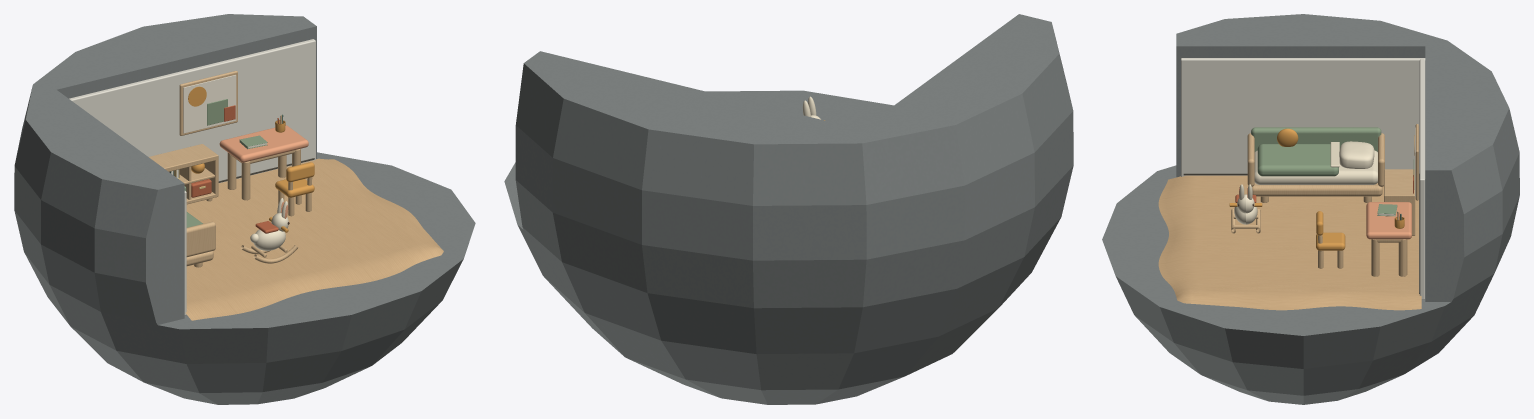
Rendered from roomlet-growing-modified.glb.
3 renders of one model, left to right at view 1: azimuth 30°, elevation 25°; view 2: azimuth 150°, elevation 25°; view 3: azimuth 270°, elevation 25°, orthographic. The views are drawn at different scales.
Visible parts, largest first — view 1: Shell_Stone_LowPoly, Floor_Rectangular_Oak, Wall_Back, Art_Quiet_Field, Desk_Top, Cubby_Top, Daybed_Rounded_End_0, Art_Frame, Rocker_Rabbit_Body, Chair_Seat, Chair_Back, Art_Sage_Hill; view 2: Shell_Stone_LowPoly; view 3: Shell_Stone_LowPoly, Floor_Rectangular_Oak, Wall_Left, Daybed_Linen_Duvet, Daybed_Soft_Back, Daybed_Mattress, Daybed_Oak_Frame, Wall_Back, Desk_Top, Cubby_Top, Daybed_Pillow, Chair_Seat (+1 smaller).
Part boxes in pixels (bbox=[...]): Shell_Stone_LowPoly: bbox=[14, 14, 475, 404]; Floor_Rectangular_Oak: bbox=[185, 158, 443, 320]; Wall_Back: bbox=[69, 39, 315, 183]; Art_Quiet_Field: bbox=[183, 75, 236, 133]; Desk_Top: bbox=[219, 125, 308, 162]; Cubby_Top: bbox=[149, 144, 218, 171]; Daybed_Rounded_End_0: bbox=[186, 221, 215, 257]; Art_Frame: bbox=[179, 70, 237, 135]; Rocker_Rabbit_Body: bbox=[253, 229, 285, 250]; Chair_Seat: bbox=[275, 179, 314, 197]; Chair_Back: bbox=[286, 162, 314, 182]; Art_Sage_Hill: bbox=[207, 99, 227, 125]; Shell_Stone_LowPoly: bbox=[504, 14, 1073, 404]; Shell_Stone_LowPoly: bbox=[1102, 14, 1519, 404]; Floor_Rectangular_Oak: bbox=[1158, 175, 1421, 310]; Wall_Left: bbox=[1181, 58, 1425, 179]; Daybed_Linen_Duvet: bbox=[1257, 144, 1338, 176]; Daybed_Soft_Back: bbox=[1251, 127, 1381, 151]; Daybed_Mattress: bbox=[1254, 150, 1377, 184]; Daybed_Oak_Frame: bbox=[1252, 183, 1382, 196]; Wall_Back: bbox=[1419, 59, 1424, 299]; Desk_Top: bbox=[1366, 202, 1411, 239]; Cubby_Top: bbox=[1384, 169, 1415, 199]; Daybed_Pillow: bbox=[1339, 141, 1374, 168]; Chair_Seat: bbox=[1316, 232, 1345, 250].
Bounding box in the file's own units: 7.09 × 4.63 × 6.41.
Materials: 15 (6 with a texture image).
